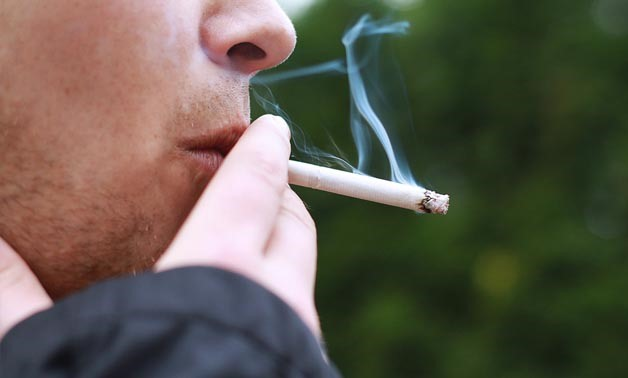cigarette: (278, 156, 450, 215)
